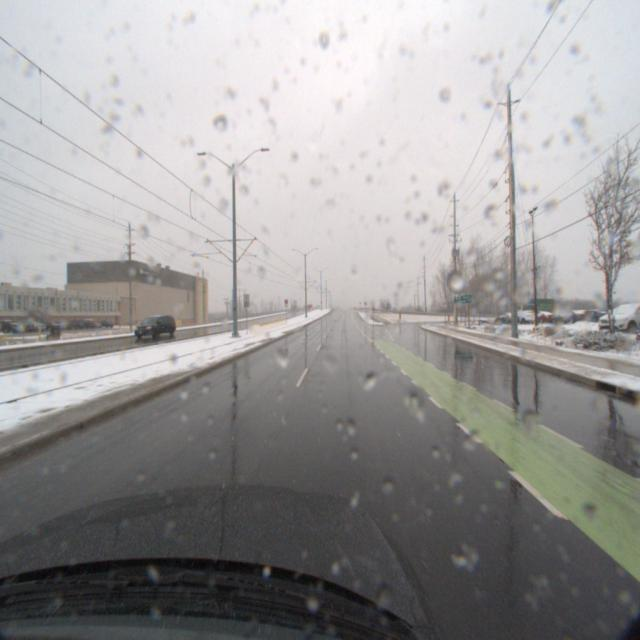Car: (127, 316, 175, 342), (542, 310, 584, 326)
Truck: (511, 295, 564, 316)
